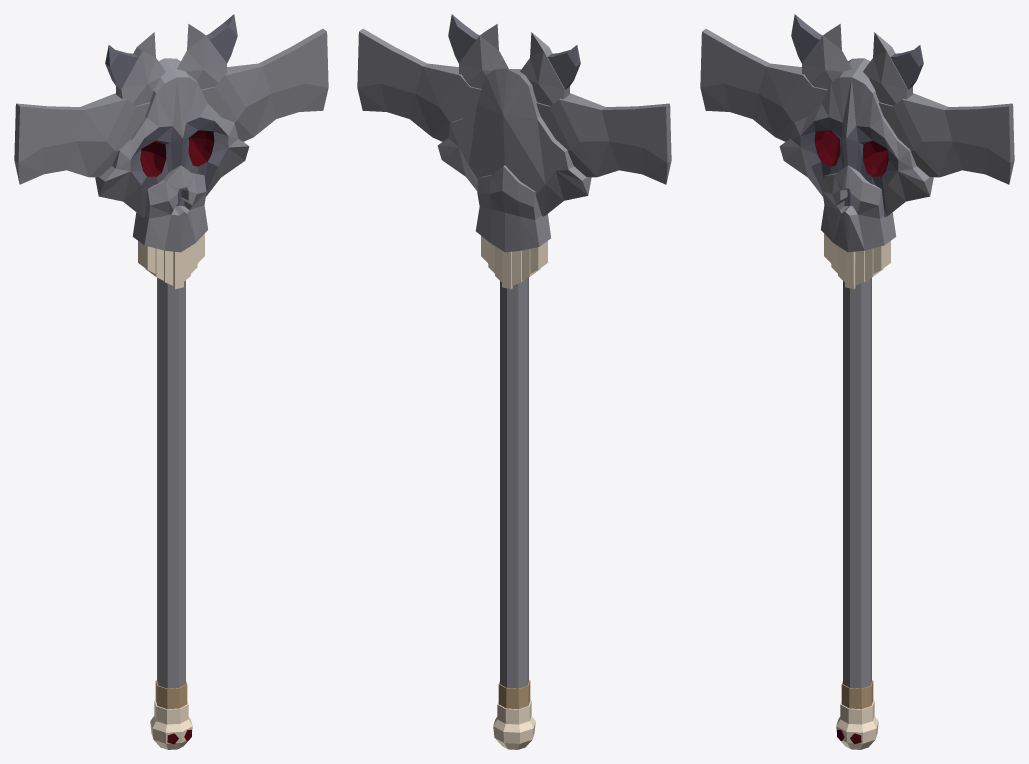
File: _hammer_12.fbx
The picture shows the model from 3 angles, left to right: view 1: azimuth 30°, elevation 25°; view 2: azimuth 150°, elevation 25°; view 3: azimuth 330°, elevation 25°; orthographic projection.
Visible parts, largest first — view 1: hammer_12; view 2: hammer_12; view 3: hammer_12.
Part boxes in pixels (left/top/right/bottom): hammer_12: left=14, top=14, right=328, bottom=749; hammer_12: left=357, top=14, right=671, bottom=749; hammer_12: left=700, top=14, right=1014, bottom=749.
Bounding box in the file's own units: 38.28 × 84.55 × 5.26.
